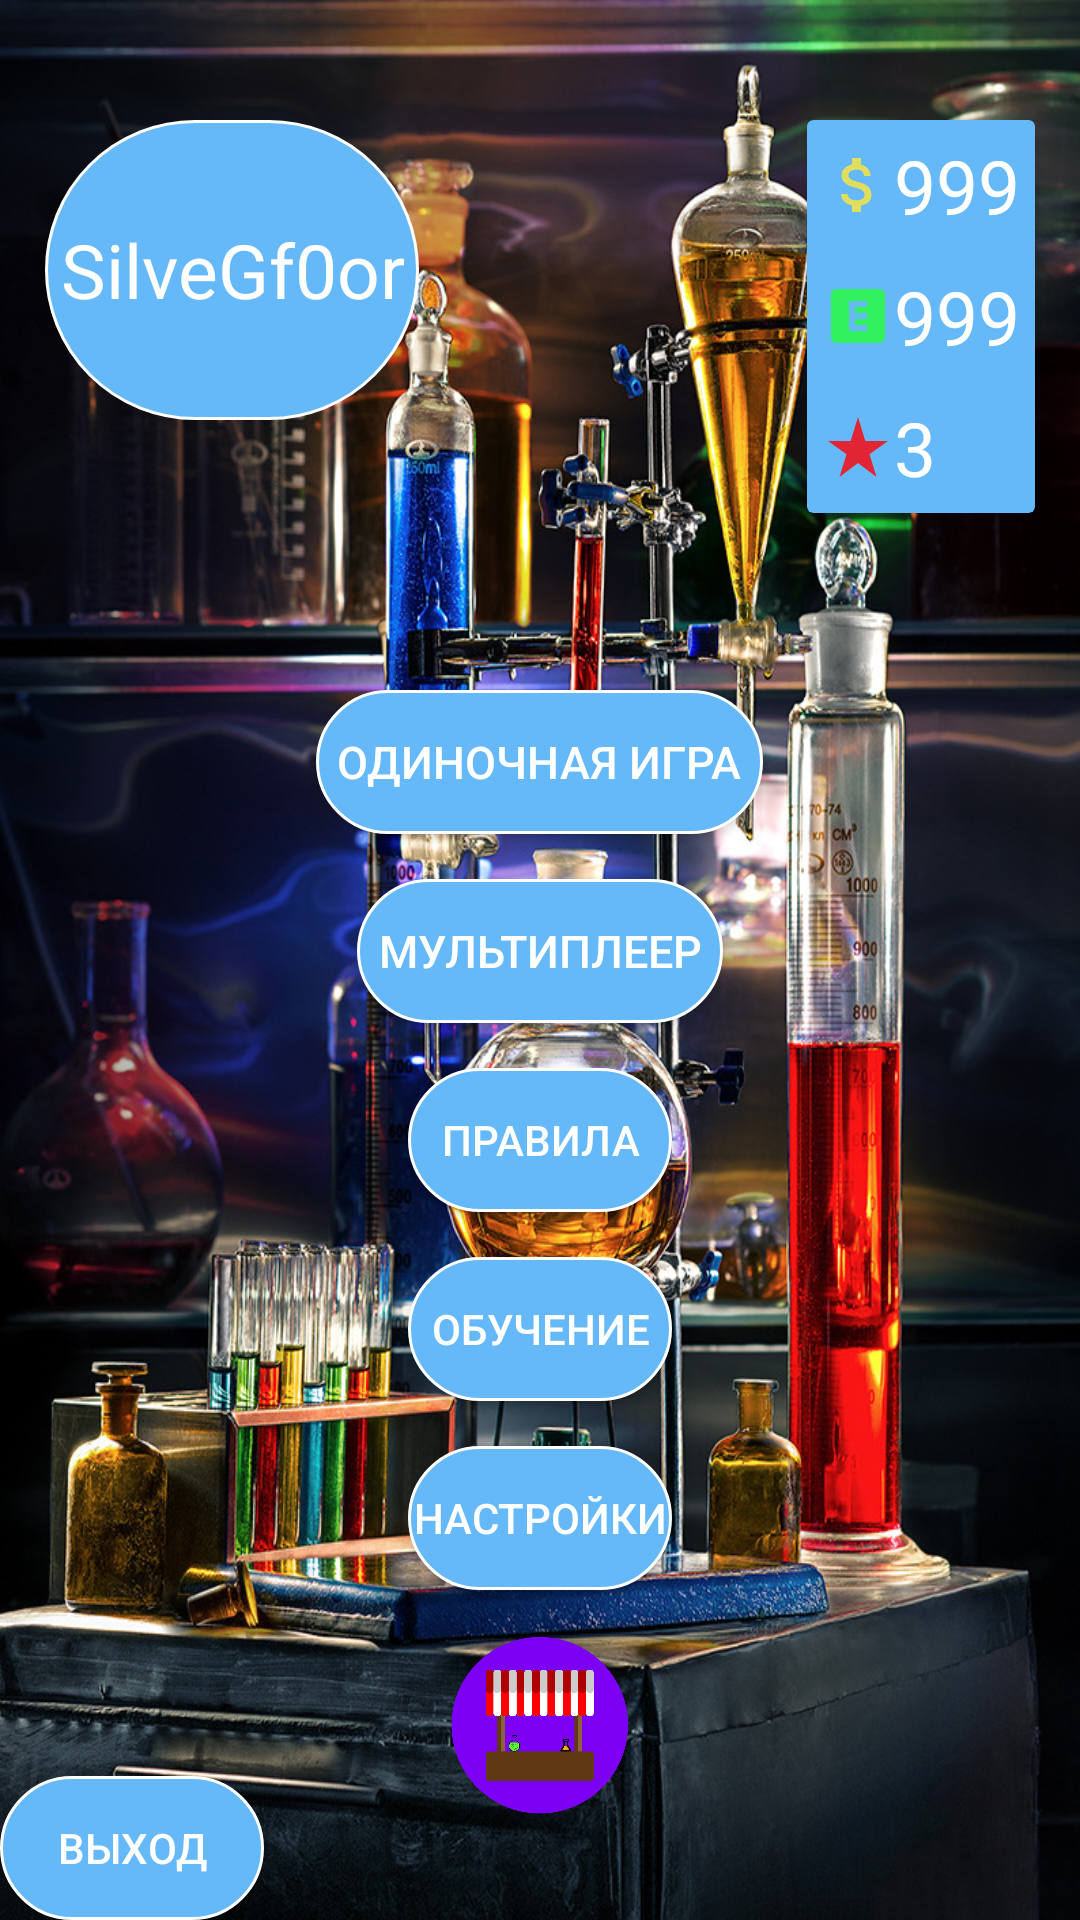

Point at icon controls on the screen. Image size 1080x1920, points as point (x, y).
shop: point (540, 1725)
